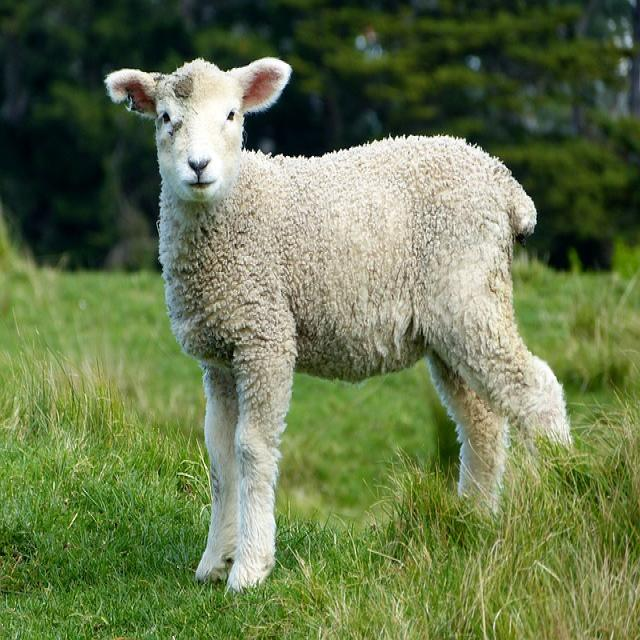goat: (103, 57, 575, 593)
